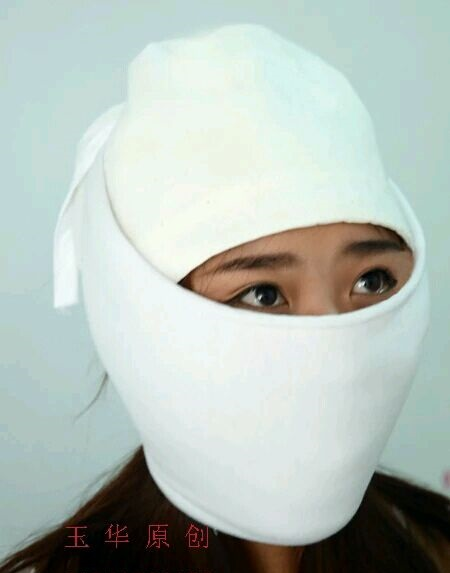face_mask: (166, 169, 426, 528)
